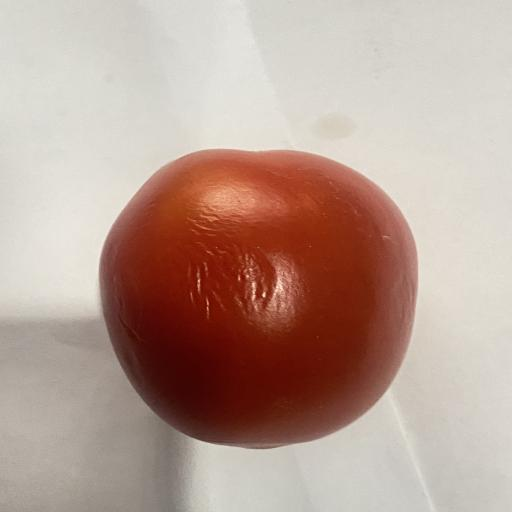overipe: (99, 149, 418, 448)
